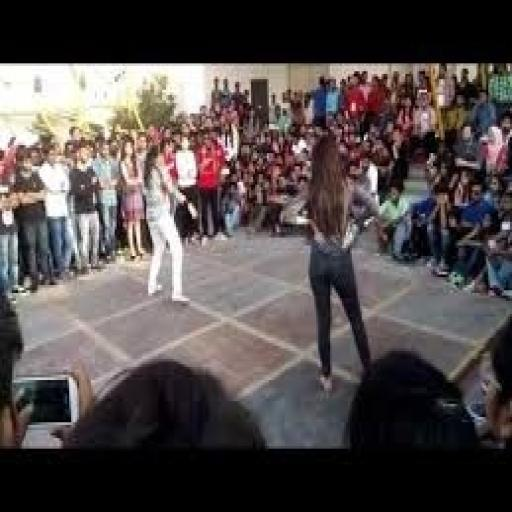dancing: (251, 113, 388, 385), (127, 115, 217, 362)
